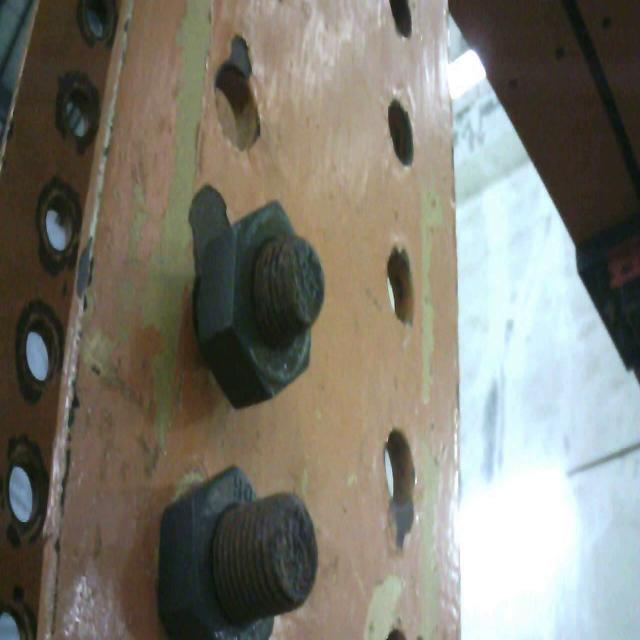Loose bolt: (195, 199, 328, 411)
Missing bolt: (215, 63, 263, 147), (383, 427, 417, 504), (388, 244, 419, 328), (7, 451, 38, 525), (389, 96, 416, 166), (25, 322, 53, 382), (46, 196, 75, 252), (66, 87, 94, 139), (84, 1, 112, 41), (1, 599, 26, 640), (390, 1, 414, 39)
Rusty bolt: (147, 457, 322, 634), (194, 202, 327, 421)
